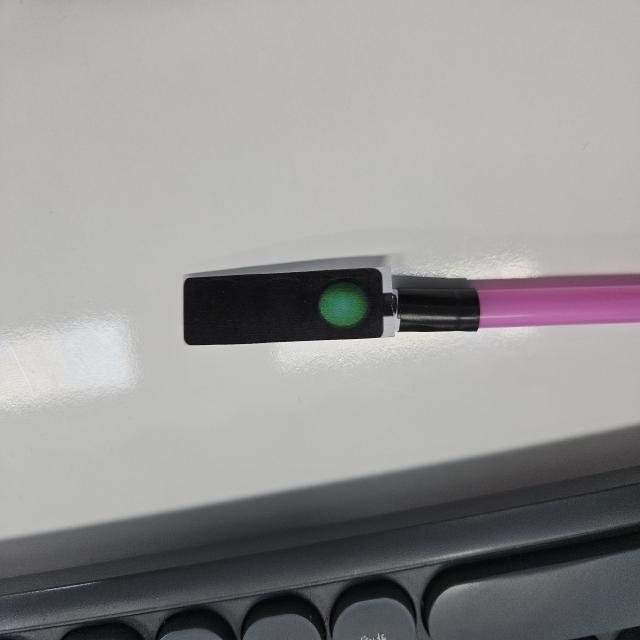traffic light: (183, 256, 402, 349)
